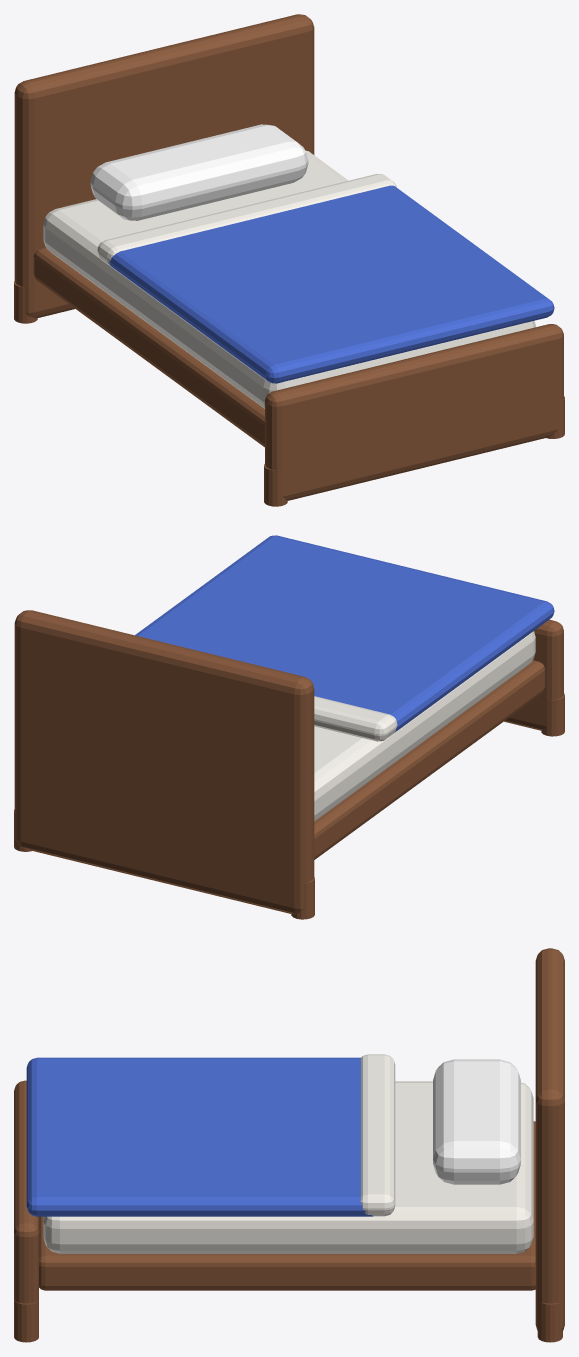
Rendered from cama.glb.
3 renders of one model, top to bottom at view 1: azimuth 30°, elevation 25°; view 2: azimuth 150°, elevation 25°; view 3: azimuth 270°, elevation 25°, orthographic. The views are drawn at different scales.
Parts seen in each view (by area): view 1: cobija, Cube, Cube.001, Cube.003, Cube.004, Cube.002, Cube.005, Cylinder; view 2: Cube, cobija, Cube.002, Cube.003, Cube.001, Cube.005, Cylinder, Cylinder.001; view 3: cobija, Cube.003, Cube.002, Cube, Cube.004, Cube.005, Cube.001, Cylinder.002, Cylinder.003.
Part boxes in pixels (x1,y1,x2,y2): cobija: [109, 185, 554, 383]; Cube: [14, 14, 314, 317]; Cube.001: [265, 324, 563, 500]; Cube.003: [43, 150, 535, 408]; Cube.004: [90, 124, 308, 220]; Cube.002: [33, 247, 264, 447]; Cube.005: [97, 174, 396, 264]; Cylinder: [264, 464, 287, 506]; Cube: [14, 610, 314, 913]; cobija: [135, 535, 554, 732]; Cube.002: [314, 660, 545, 859]; Cube.003: [314, 631, 535, 821]; Cube.001: [504, 619, 563, 730]; Cube.005: [314, 696, 397, 741]; Cylinder: [541, 693, 564, 736]; Cylinder.001: [291, 877, 314, 919]; cobija: [26, 1057, 372, 1216]; Cube.003: [43, 1081, 533, 1253]; Cube.002: [39, 1121, 535, 1290]; Cube: [535, 948, 564, 1331]; Cube.004: [433, 1059, 520, 1184]; Cube.005: [360, 1054, 395, 1216]; Cube.001: [14, 1080, 38, 1303]; Cylinder.002: [14, 1300, 38, 1342]; Cylinder.003: [537, 1302, 562, 1342].
Size of the model in its own units: 1.72 by 1.3 by 2.63.
